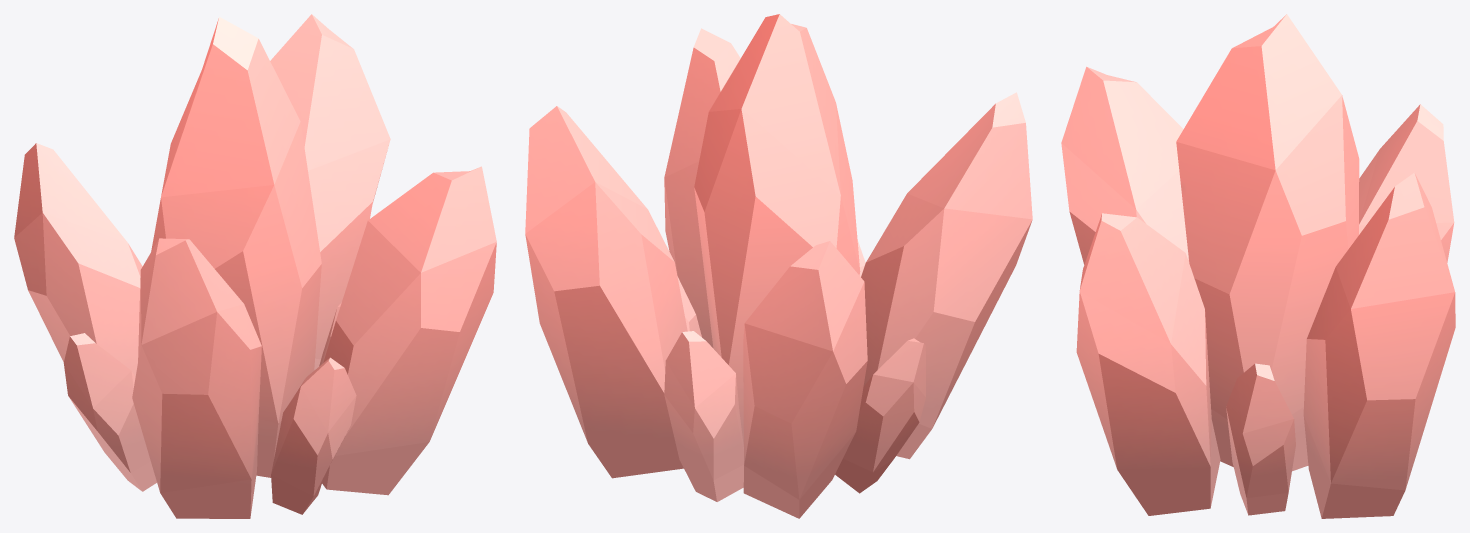
File: SM_Stylized_Crystal_04_CrystalD.fbx
The picture shows the model from 3 angles, left to right: view 1: azimuth 30°, elevation 25°; view 2: azimuth 150°, elevation 25°; view 3: azimuth 270°, elevation 25°; orthographic projection.
Visible parts, largest first — view 1: SM_Stylized_Crystal_04_CrystalD_LOD0; view 2: SM_Stylized_Crystal_04_CrystalD_LOD0; view 3: SM_Stylized_Crystal_04_CrystalD_LOD0.
Part boxes in pixels (left/top/right/bottom): SM_Stylized_Crystal_04_CrystalD_LOD0: left=14, top=14, right=496, bottom=518; SM_Stylized_Crystal_04_CrystalD_LOD0: left=525, top=14, right=1032, bottom=518; SM_Stylized_Crystal_04_CrystalD_LOD0: left=1061, top=14, right=1455, bottom=518.
Bounding box in the file's own units: 15.38 × 14.29 × 18.12.
